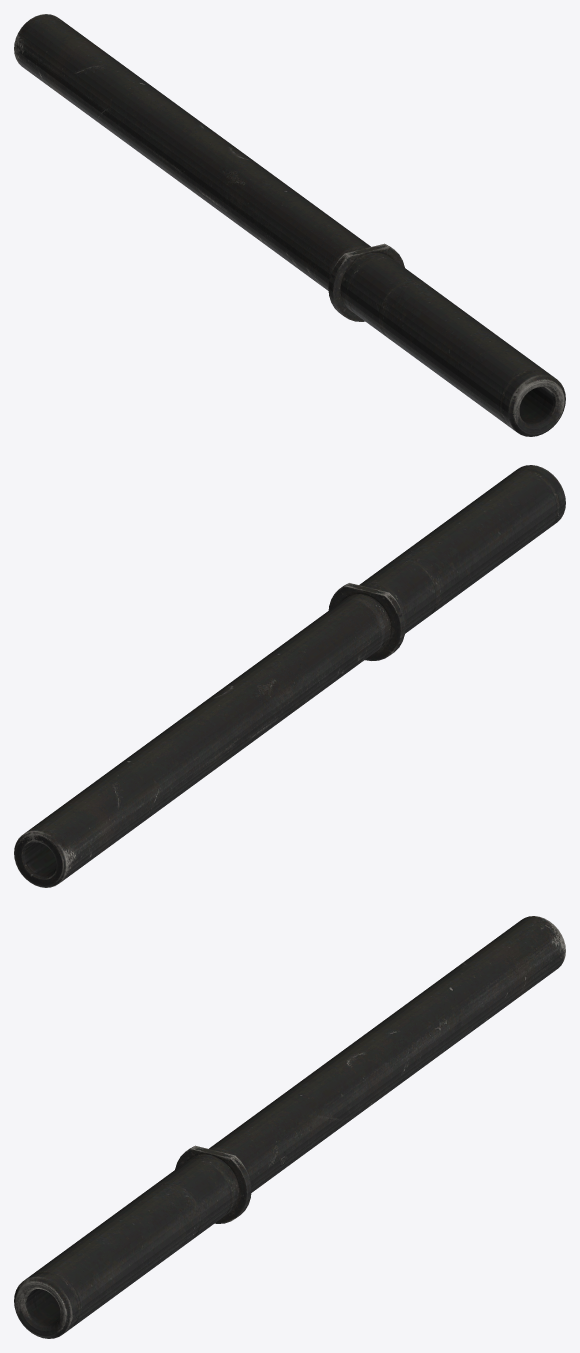
3 renders of one model, top to bottom at view 1: azimuth 30°, elevation 25°; view 2: azimuth 150°, elevation 25°; view 3: azimuth 330°, elevation 25°, orthographic.
Visible parts, largest first — view 1: TW_668670432b934a68630a7fe8_PZ_Import; view 2: TW_668670432b934a68630a7fe8_PZ_Import; view 3: TW_668670432b934a68630a7fe8_PZ_Import.
Part boxes in pixels (x1,y1,x2,y2): TW_668670432b934a68630a7fe8_PZ_Import: (14,14,565,436); TW_668670432b934a68630a7fe8_PZ_Import: (14,465,565,887); TW_668670432b934a68630a7fe8_PZ_Import: (14,916,565,1338).
Size of the model in its own units: 0.0116 by 0.1387 by 0.0106.
Materials: 1 (1 with a texture image).
